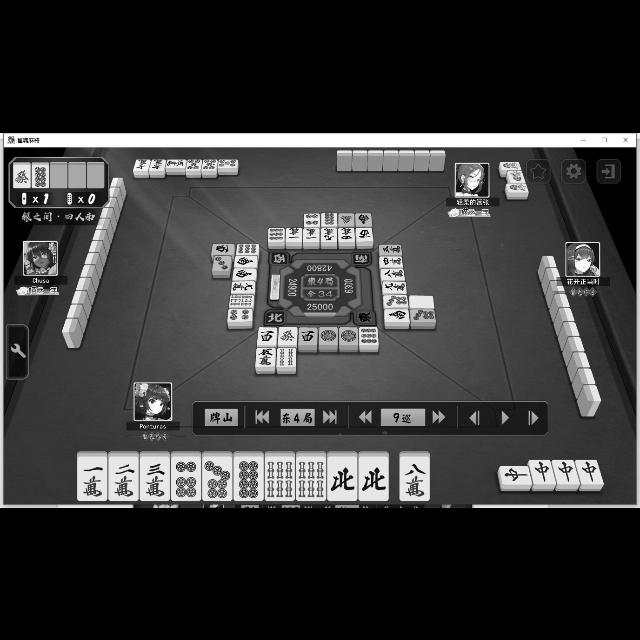1m: (77, 458, 107, 500), (286, 226, 302, 242), (303, 227, 319, 241)
1p: (318, 326, 338, 344), (339, 326, 358, 344)
1s: (508, 170, 524, 182), (506, 183, 528, 191), (502, 161, 520, 169)
2m: (108, 456, 138, 502)
3m: (141, 458, 169, 500), (380, 243, 402, 255)
3p: (212, 254, 232, 270)
4m: (379, 255, 403, 267), (338, 226, 354, 242)
4p: (228, 308, 252, 322), (302, 212, 320, 226)
4s: (276, 347, 296, 367)
5m: (255, 346, 275, 366), (166, 158, 187, 168)
5p: (218, 158, 238, 168), (186, 158, 202, 170), (202, 157, 215, 169)
6m: (148, 158, 166, 170)
6p: (172, 456, 200, 500)
6s: (296, 456, 326, 500), (264, 456, 294, 499), (227, 294, 253, 306)
7m: (132, 157, 150, 170)
7p: (202, 456, 232, 500), (382, 294, 408, 308), (410, 308, 436, 322)
8m: (399, 456, 429, 500), (380, 268, 404, 280)
8p: (234, 456, 264, 499), (32, 164, 48, 186), (322, 212, 336, 226)
9m: (382, 280, 408, 294), (230, 280, 254, 294), (382, 280, 406, 294), (319, 228, 336, 240)
9p: (359, 326, 378, 344), (268, 226, 284, 240), (236, 244, 258, 254)
chun: (528, 458, 556, 484), (553, 458, 581, 484), (576, 459, 602, 483), (499, 466, 533, 484)
haku: (408, 294, 434, 308)
hatsu: (14, 164, 31, 188), (278, 326, 296, 344), (337, 211, 355, 225)
nan: (384, 308, 410, 322), (232, 267, 258, 279), (235, 256, 258, 266), (355, 212, 371, 225)
pe: (358, 456, 388, 500), (327, 458, 358, 500)
sha: (258, 327, 276, 345), (298, 327, 316, 345), (212, 243, 234, 255), (356, 227, 372, 241)
